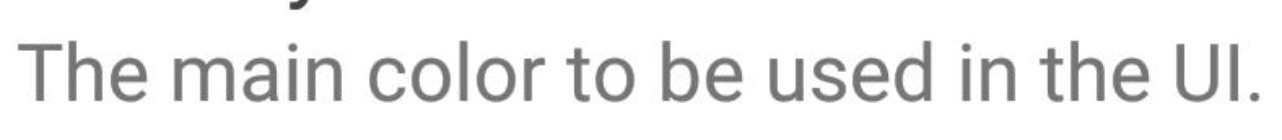TextView: (1, 1, 1281, 139)
